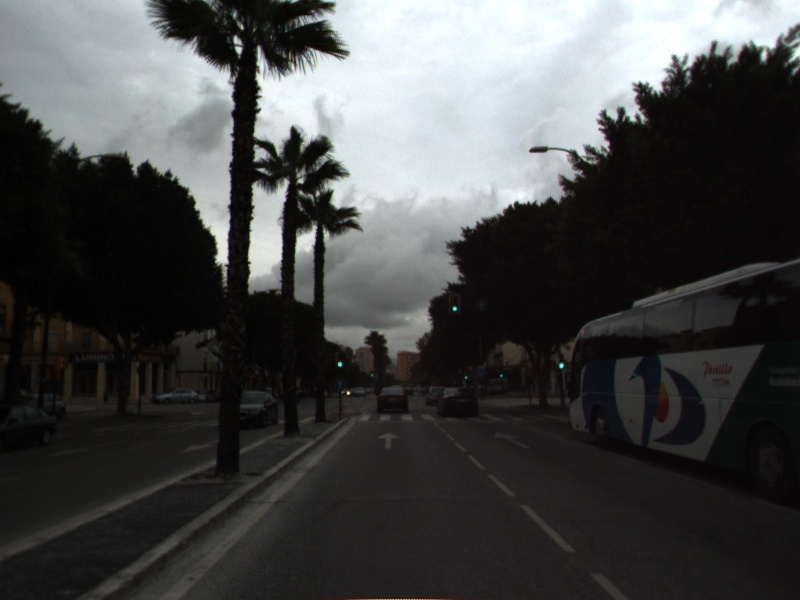STRAIGHT: (491, 429, 533, 451), (374, 430, 403, 451)
